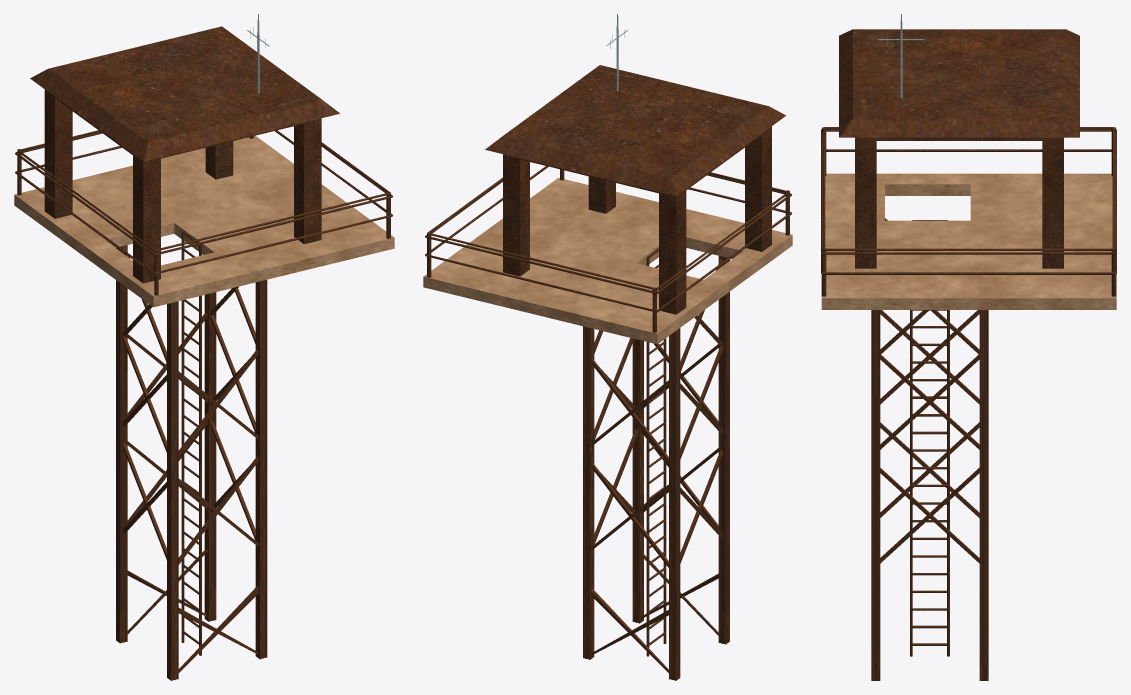
Rendered from wishka.fbx.
The picture shows the model from 3 angles, left to right: view 1: azimuth 30°, elevation 25°; view 2: azimuth 150°, elevation 25°; view 3: azimuth 270°, elevation 25°; orthographic projection. The views are drawn at different scales.
Parts seen in each view (by area): view 1: platform, stal, krisha, stul, porebrik, ladder; view 2: platform, stal, krisha, stul, porebrik, ladder; view 3: platform, krisha, stal, stul, porebrik, ladder.
Part boxes in pixels (x1=…): platform: x1=14, y1=135, x2=394, y2=307; stal: x1=116, y1=245, x2=267, y2=680; krisha: x1=30, y1=26, x2=339, y2=161; stul: x1=44, y1=89, x2=321, y2=283; porebrik: x1=15, y1=130, x2=392, y2=295; ladder: x1=181, y1=231, x2=201, y2=655; platform: x1=423, y1=177, x2=792, y2=344; stal: x1=583, y1=256, x2=729, y2=680; krisha: x1=485, y1=65, x2=785, y2=196; stul: x1=503, y1=126, x2=771, y2=314; porebrik: x1=425, y1=166, x2=791, y2=332; ladder: x1=646, y1=248, x2=666, y2=656; platform: x1=821, y1=173, x2=1116, y2=309; krisha: x1=839, y1=29, x2=1079, y2=137; stal: x1=871, y1=218, x2=988, y2=680; stul: x1=855, y1=137, x2=1063, y2=268; porebrik: x1=821, y1=127, x2=1116, y2=296; ladder: x1=910, y1=220, x2=949, y2=656.
Size of the model in its own units: 1841 by 4576 by 1833.
6 materials, 6 textured.
